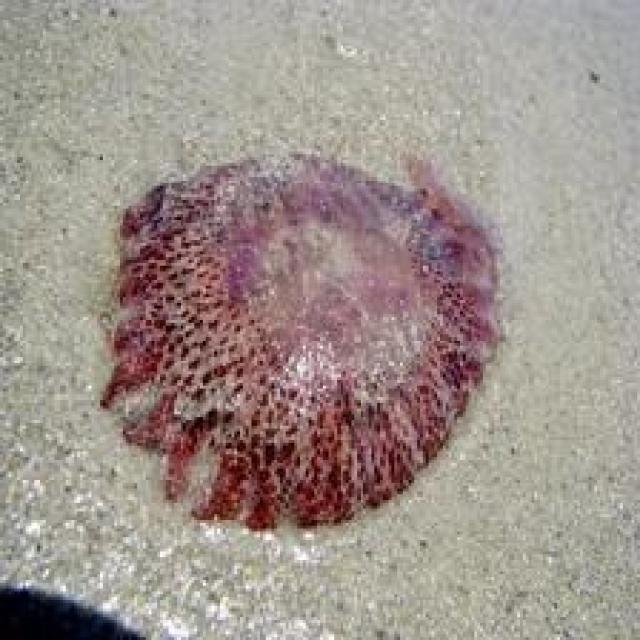Box-jellyfish: (97, 146, 506, 531)
